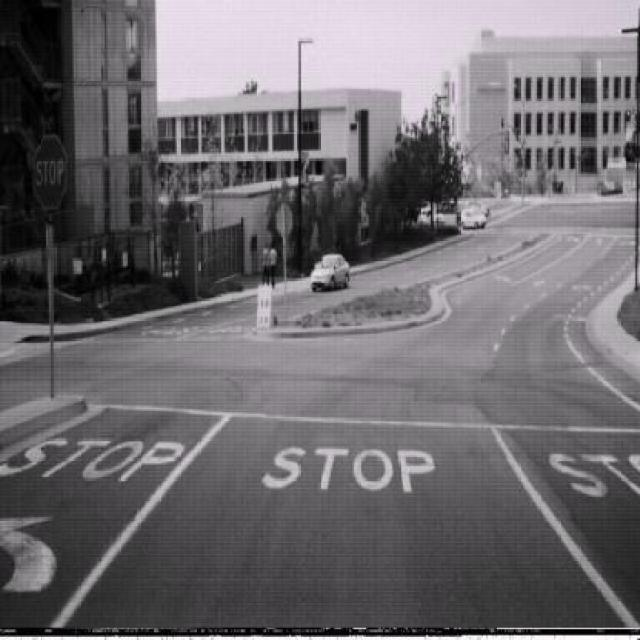stop: (32, 132, 68, 212)
